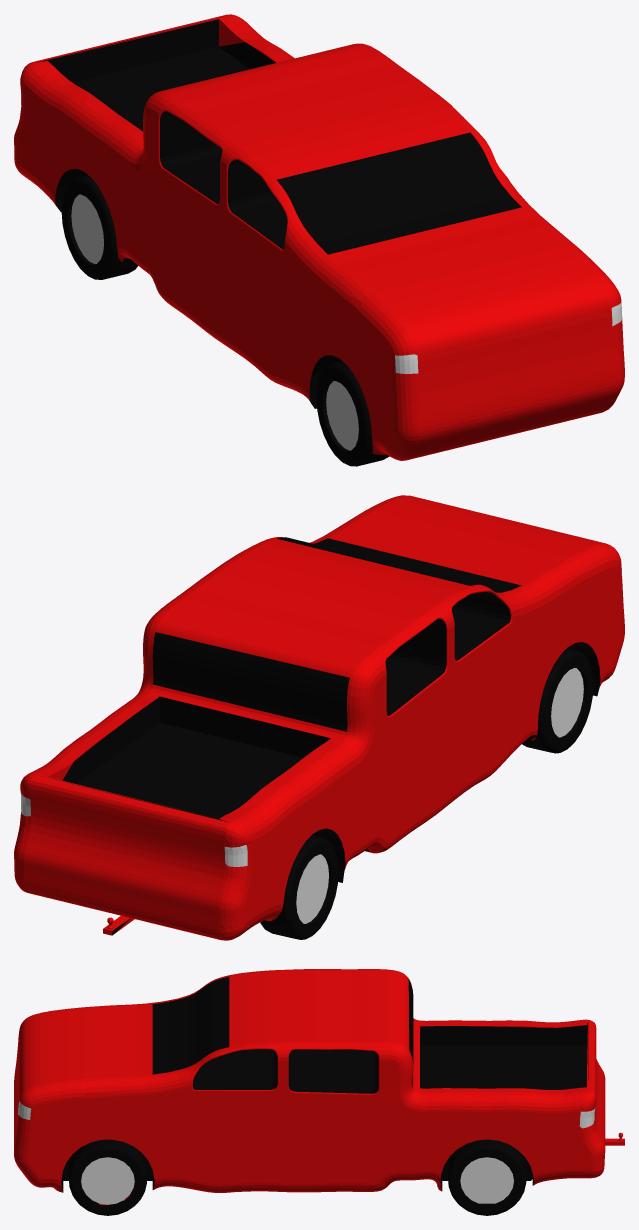
File: redtruck.dae
3 views of the same model, one above another, from view 1: azimuth 30°, elevation 25°; view 2: azimuth 150°, elevation 25°; view 3: azimuth 270°, elevation 25° (orthographic). The views are drawn at different scales.
Visible parts, largest first — view 1: truck; view 2: truck; view 3: truck.
Boxes of the visible parts, x1,y1,x2,y2 form: truck: [14, 14, 624, 466]; truck: [14, 495, 624, 940]; truck: [14, 969, 624, 1215].
Bounding box in the file's own units: 2 × 6.23 × 1.91.
